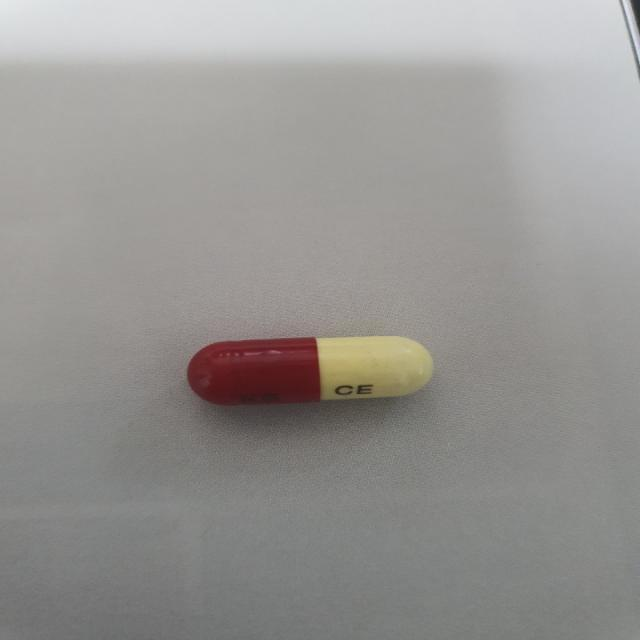pill: (174, 321, 441, 417)
